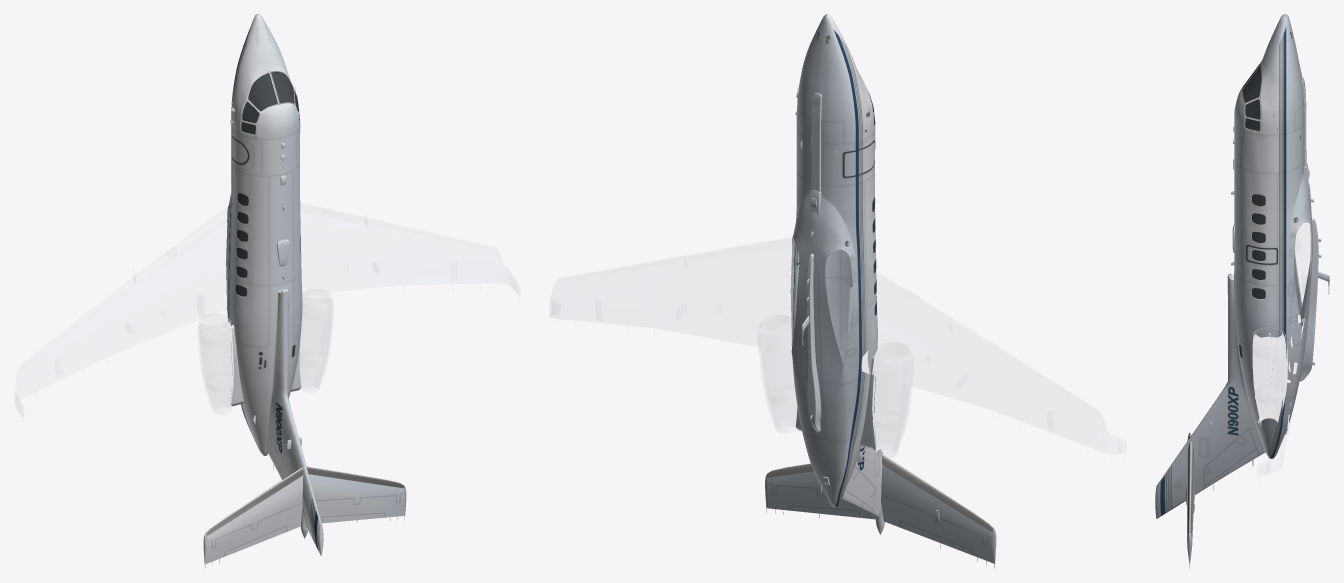
The model's file is airplane.glb.
3 views of the same model, side by side, from view 1: azimuth 30°, elevation 25°; view 2: azimuth 150°, elevation 25°; view 3: azimuth 270°, elevation 25° (orthographic). The views are drawn at different scales.
Visible parts, largest first — view 1: airplane; view 2: airplane; view 3: airplane.
Part boxes in pixels (<box>): airplane: <box>16,14,452,568</box>; airplane: <box>551,14,1052,568</box>; airplane: <box>1155,14,1329,568</box>.
Bounding box in the file's own units: 15.77 × 15.02 × 4.71.
Materials: 2 (2 with a texture image).
